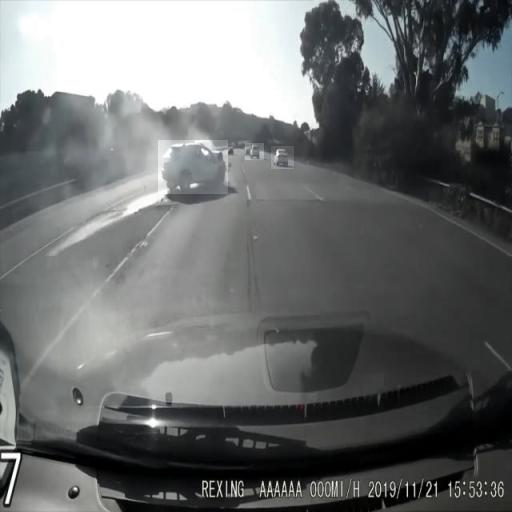小汽车: (158, 140, 228, 194), (271, 146, 294, 169), (245, 143, 264, 160)
